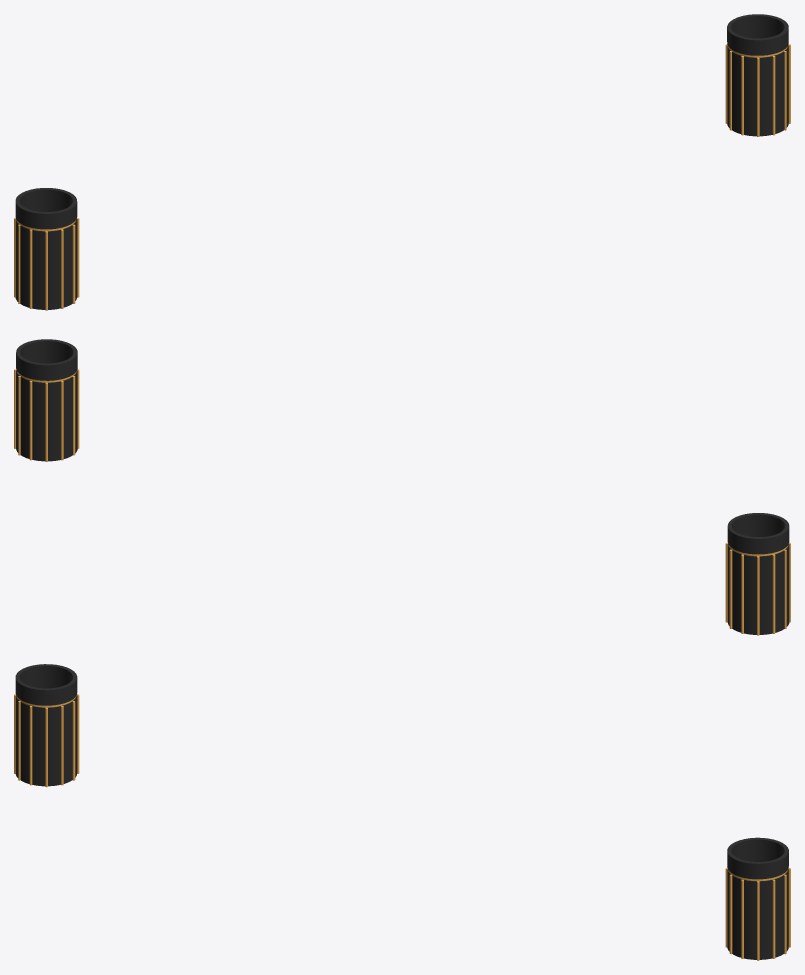
The model's file is cylindrical_wall_lamp.glb.
The picture shows the model from 3 angles, top to bottom: view 1: azimuth 30°, elevation 25°; view 2: azimuth 150°, elevation 25°; view 3: azimuth 330°, elevation 25°; orthographic projection.
Parts seen in each view (by area): view 1: Circle, Circle.001; view 2: Circle, Circle.001; view 3: Circle, Circle.001.
Part boxes in pixels (box(x1,y1,x2,y2)): Circle: box(14, 188, 79, 310); Circle.001: box(725, 14, 790, 136); Circle: box(725, 513, 790, 635); Circle.001: box(14, 339, 79, 461); Circle: box(14, 664, 79, 787); Circle.001: box(725, 837, 790, 960).
Bounding box in the file's own units: 2 × 0.2386 × 0.147.
